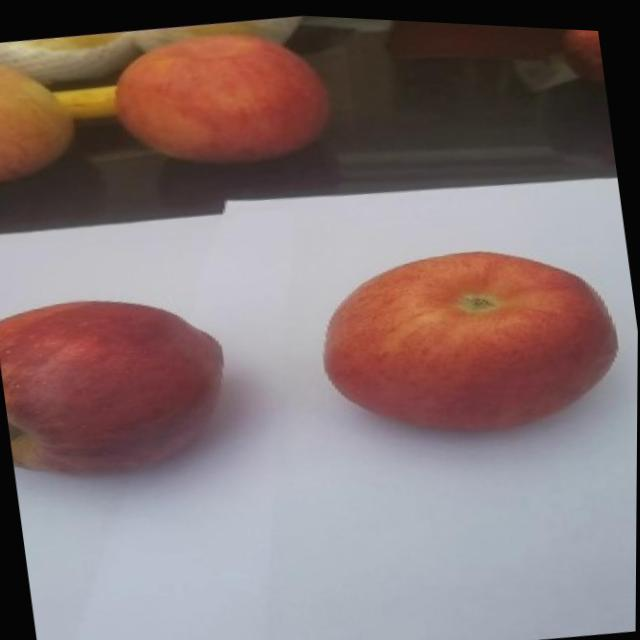Apple: (308, 217, 637, 452), (0, 275, 244, 498), (104, 13, 334, 186), (0, 44, 86, 193)
